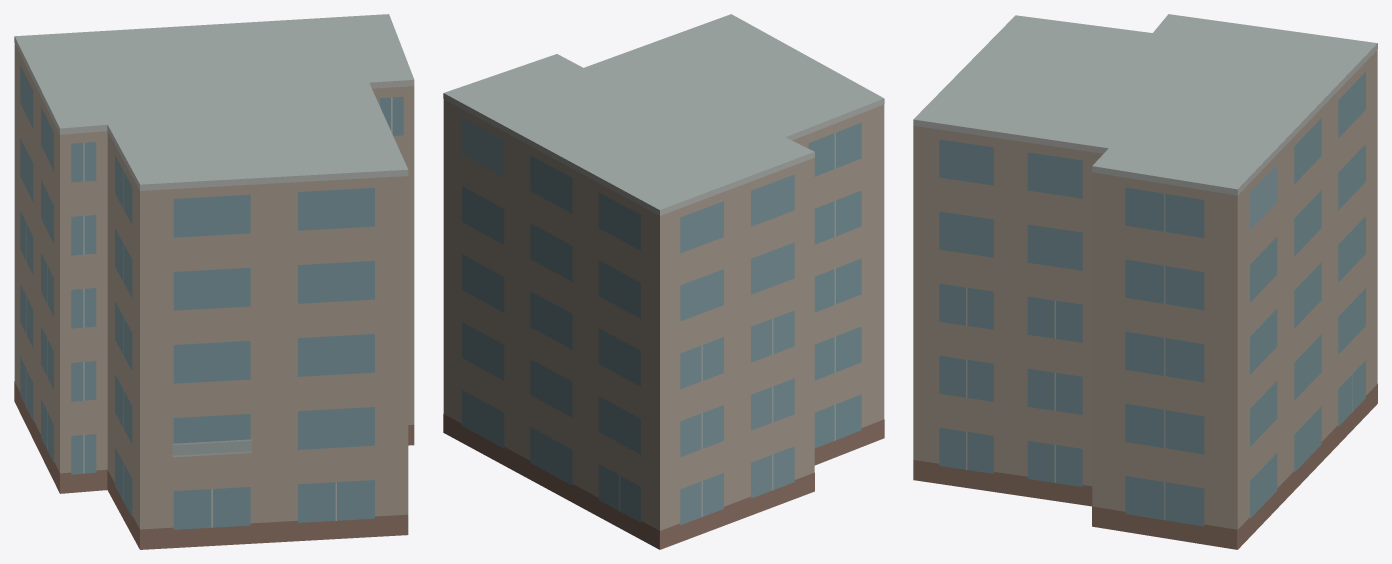
The model's file is survey-upis-33012358.glb.
3 views of the same model, side by side, from view 1: azimuth 30°, elevation 25°; view 2: azimuth 150°, elevation 25°; view 3: azimuth 270°, elevation 25° (orthographic). The views are drawn at different scales.
Visible parts, largest first — view 1: survey-upis-33012358.tmp; view 2: survey-upis-33012358.tmp; view 3: survey-upis-33012358.tmp.
Part boxes in pixels (left/top/right/bottom): survey-upis-33012358.tmp: left=14, top=14, right=414, bottom=549; survey-upis-33012358.tmp: left=443, top=14, right=884, bottom=549; survey-upis-33012358.tmp: left=913, top=14, right=1377, bottom=549.
Size of the model in its own units: 14.82 by 14.2 by 16.59.
